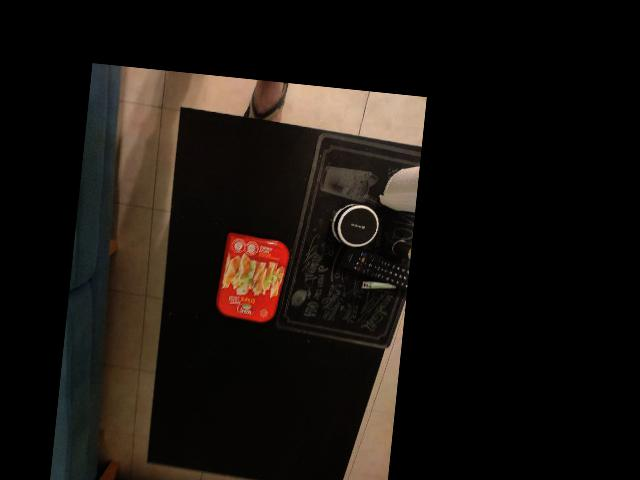cheese: (212, 222, 289, 325)
